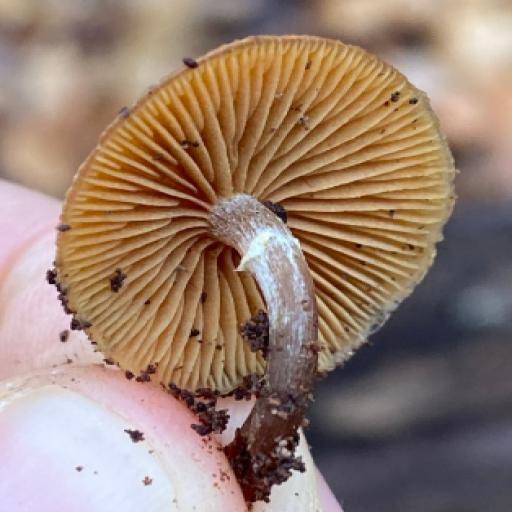mushroom: (49, 23, 469, 478)
